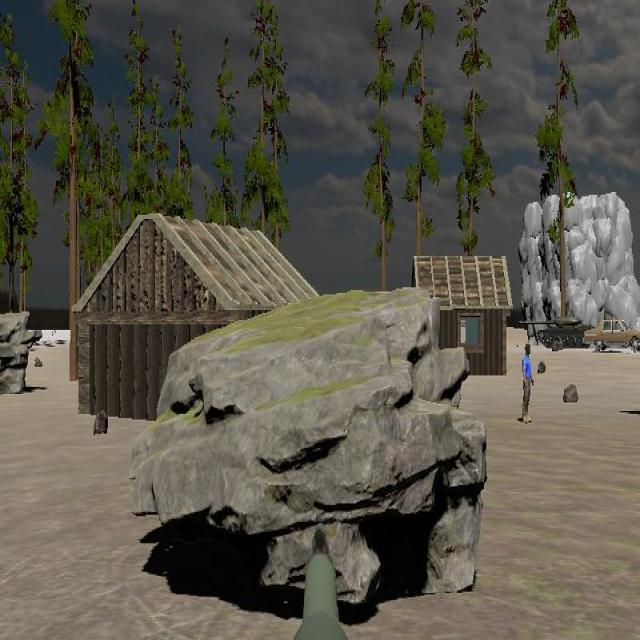House: (70, 212, 321, 418)
Human: (521, 344, 535, 423)
Tank: (518, 315, 589, 350)
car: (582, 318, 640, 351)
